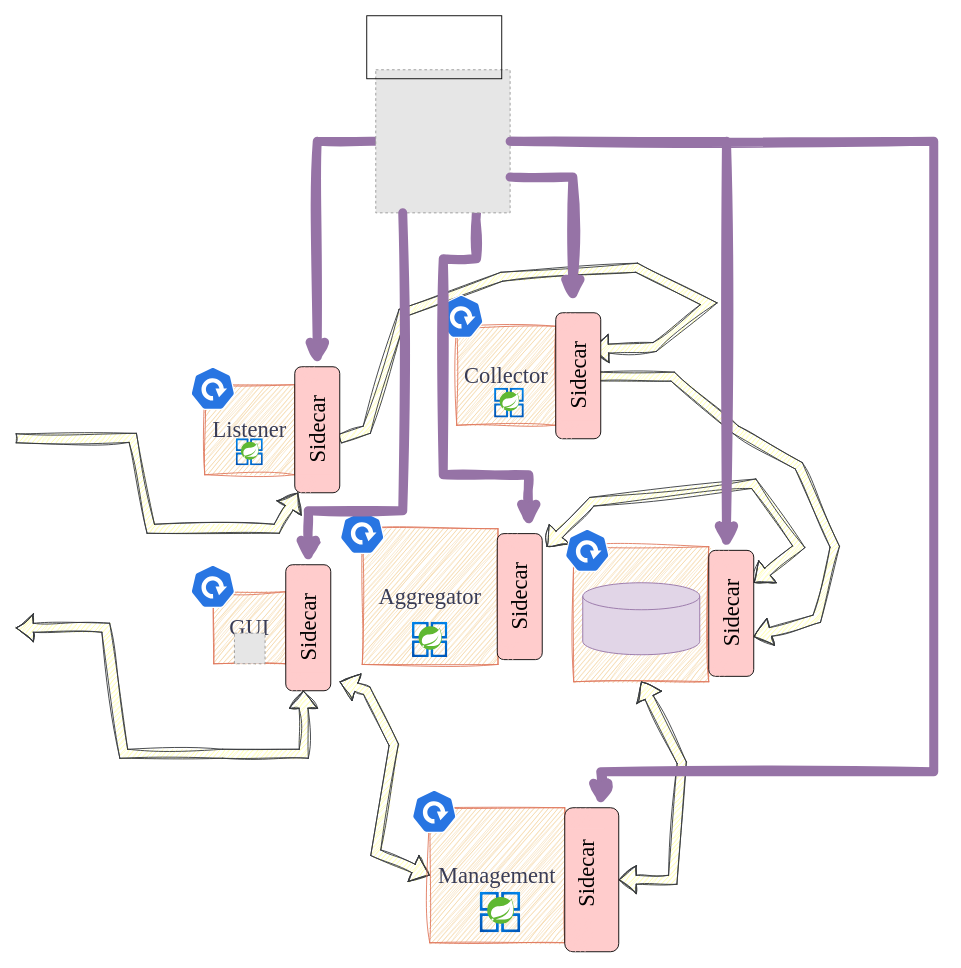
This 961x968 diagram has some shape labels left out. Grey dashed boxes stand in for pictures. The shapes that lost their labels are listed below. From the top down, each one's centre as x and y in pixels, then its label:
At pixel 434 47: "Kuma".
At pixel 641 618: "Database".
